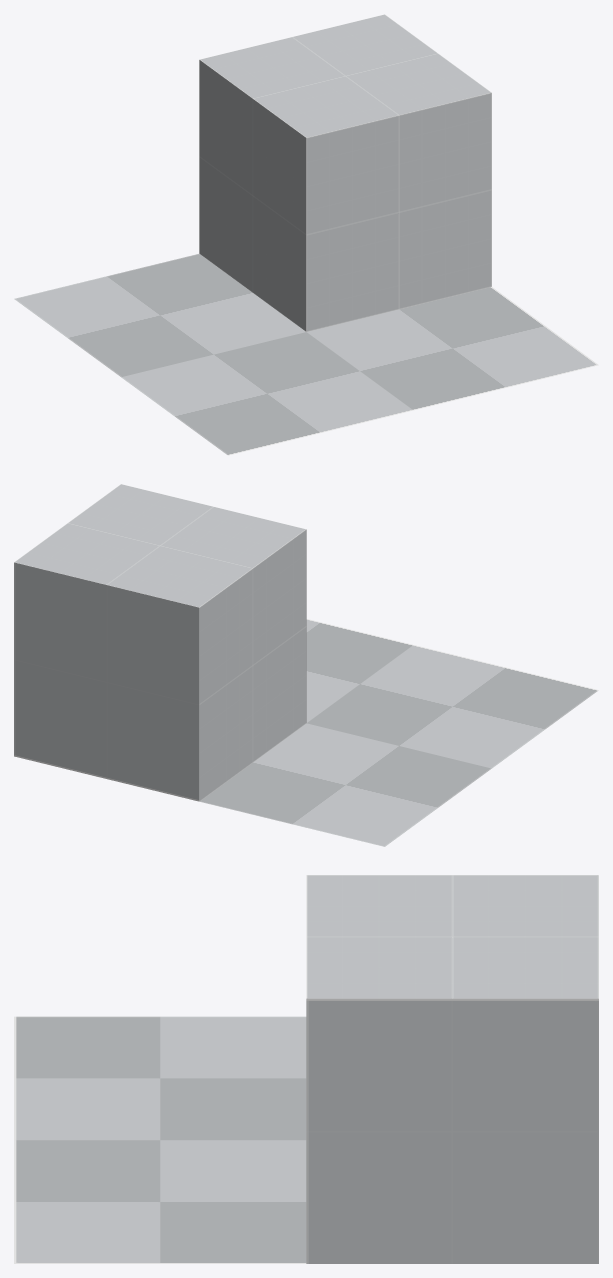
Rendered from corner_outer0101.glb.
3 views of the same model, one above another, from view 1: azimuth 30°, elevation 25°; view 2: azimuth 150°, elevation 25°; view 3: azimuth 270°, elevation 25° (orthographic). The views are drawn at different scales.
Visible parts, largest first — view 1: Plane.001; view 2: Plane.001; view 3: Plane.001.
Boxes of the visible parts, x1,y1,x2,y2 form: Plane.001: (14, 14, 598, 455); Plane.001: (14, 484, 598, 846); Plane.001: (14, 875, 598, 1263).
Size of the model in its own units: 10 by 5 by 10.
Materials: 2 (2 with a texture image).
